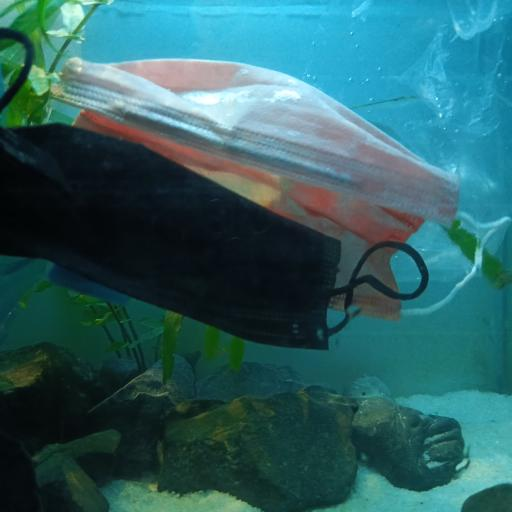mask: (1, 28, 431, 352), (48, 56, 512, 320)
plastic_bag: (301, 0, 512, 268)
